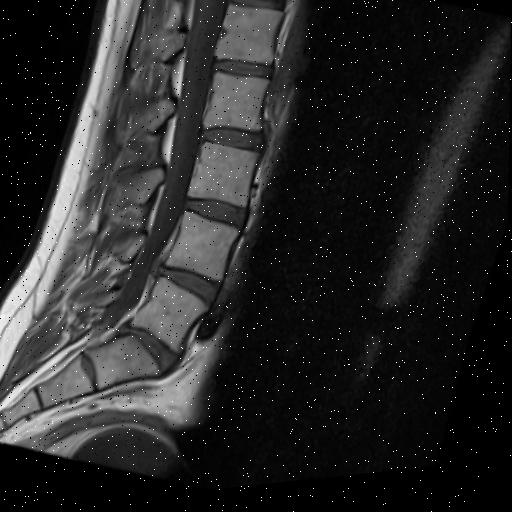L1: (214, 12, 281, 69)
L2: (203, 79, 267, 136)
L3: (188, 146, 257, 211)
L4: (167, 216, 237, 283)
L5: (132, 281, 206, 353)
S1: (84, 336, 162, 391)
